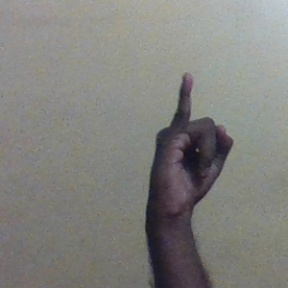I: (144, 70, 235, 212)
